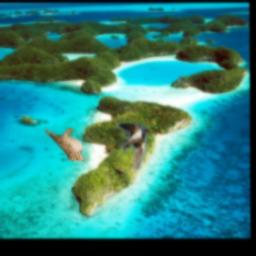Sparrow: (46, 128, 87, 161)
Swallow: (107, 122, 148, 170)
